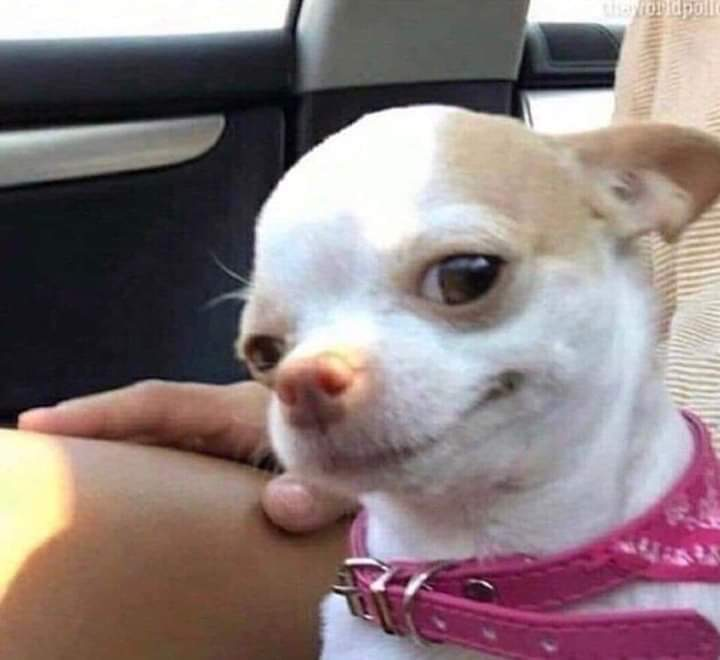dog: (232, 101, 720, 660)
